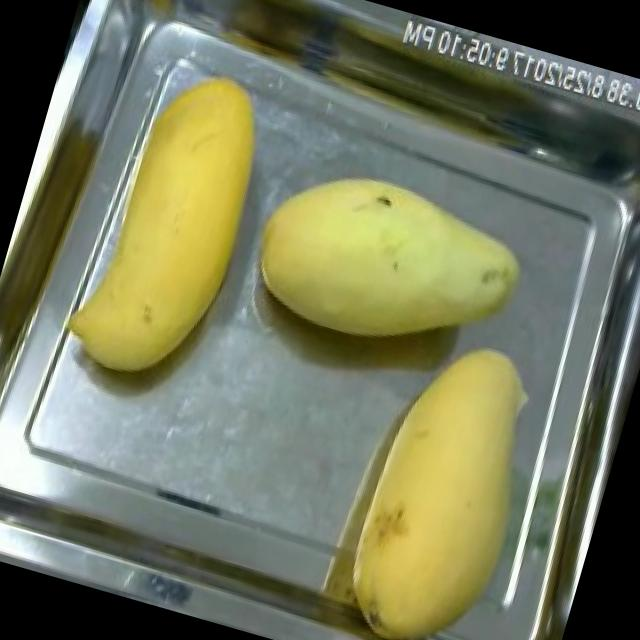fruit: (49, 35, 304, 415), (304, 311, 576, 640), (226, 132, 551, 392)
